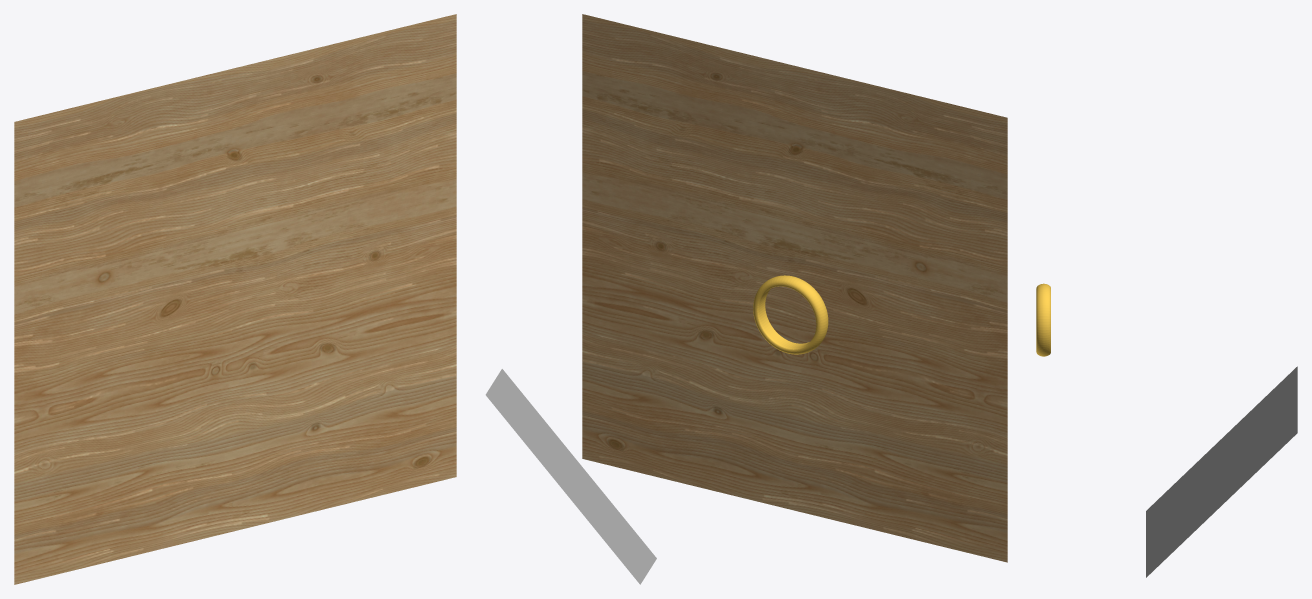
Rendered from ring.fbx.
The picture shows the model from 3 angles, left to right: view 1: azimuth 30°, elevation 25°; view 2: azimuth 150°, elevation 25°; view 3: azimuth 270°, elevation 25°; orthographic projection. The views are drawn at different scales.
Parts seen in each view (by area): view 1: plan; view 2: plan, Plane.001, Cylinder; view 3: Plane.001, Cylinder.
Boxes of the visible parts, x1,y1,x2,y2 form: plan: (14, 14, 456, 584); plan: (582, 14, 1007, 562); Plane.001: (485, 369, 656, 584); Cylinder: (753, 275, 828, 354); Plane.001: (1146, 366, 1297, 577); Cylinder: (1036, 283, 1050, 356).
Size of the model in its own units: 216 by 223 by 122.
Materials: 3 (1 with a texture image).
